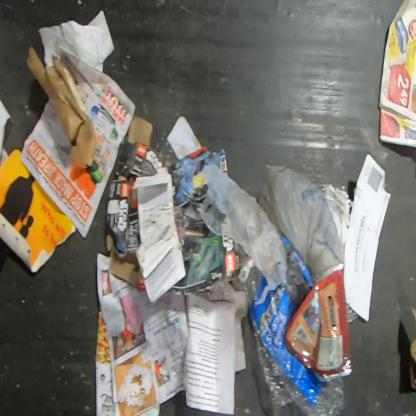cardboard: (105, 113, 165, 288), (25, 45, 98, 171), (170, 203, 239, 291), (399, 303, 415, 392)
soft_plastic: (230, 234, 348, 416), (198, 162, 289, 290), (258, 163, 344, 286), (284, 270, 352, 384)
